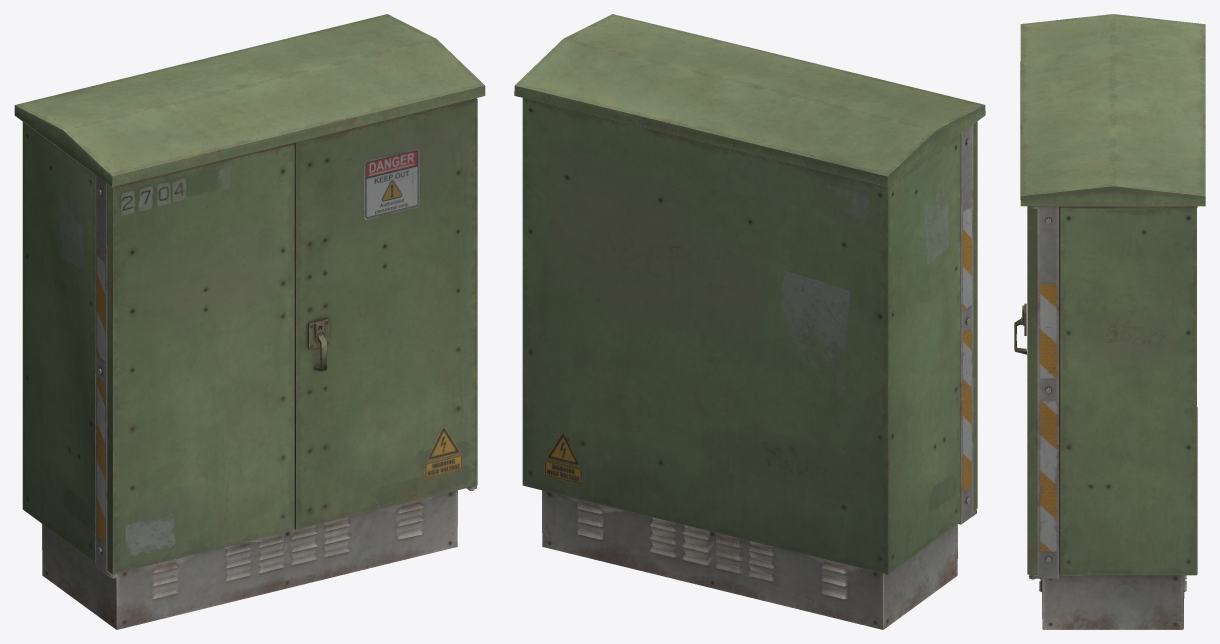
The model's file is utility_box_b.glb.
3 renders of one model, left to right at view 1: azimuth 30°, elevation 25°; view 2: azimuth 150°, elevation 25°; view 3: azimuth 270°, elevation 25°, orthographic. The views are drawn at different scales.
Parts seen in each view (by area): view 1: utility_box_b; view 2: utility_box_b; view 3: utility_box_b.
Part boxes in pixels (x1,y1,x2,y2): utility_box_b: (14, 14, 485, 629); utility_box_b: (514, 14, 985, 629); utility_box_b: (1014, 14, 1205, 629).
Size of the model in its own units: 0.9178 by 1.12 by 0.4303.
Materials: 1 (1 with a texture image).
